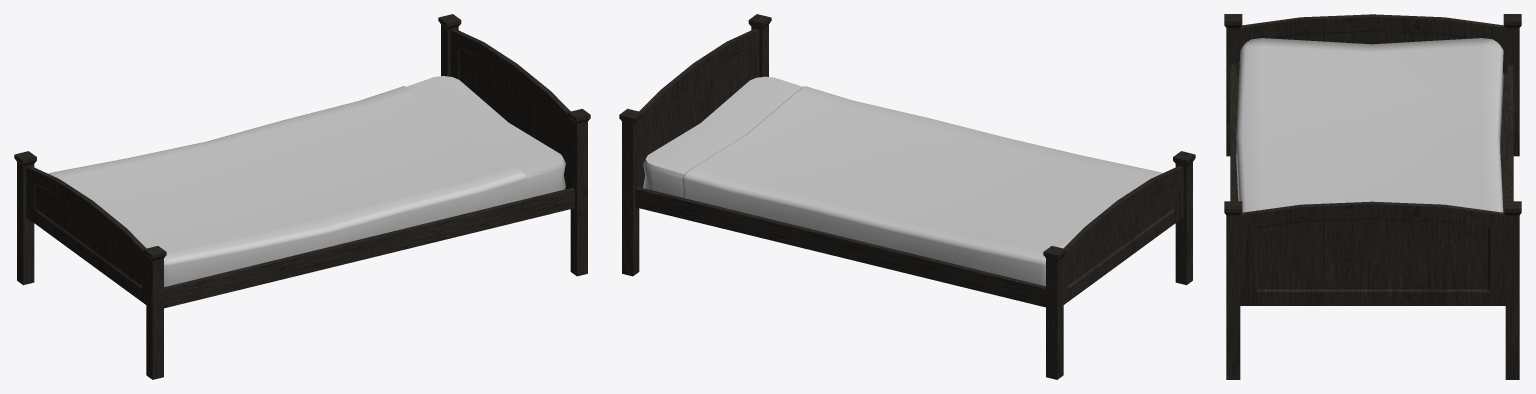
File: bed_5.fbx
3 renders of one model, left to right at view 1: azimuth 30°, elevation 25°; view 2: azimuth 150°, elevation 25°; view 3: azimuth 270°, elevation 25°, orthographic. The views are drawn at different scales.
Parts seen in each view (by area): view 1: bed_5; view 2: bed_5; view 3: bed_5.
Part boxes in pixels (box(x1,y1,x2,y2)): bed_5: box(14, 14, 590, 379); bed_5: box(619, 14, 1195, 379); bed_5: box(1224, 14, 1521, 379).
Size of the model in its own units: 2.74 by 0.9621 by 1.49.
